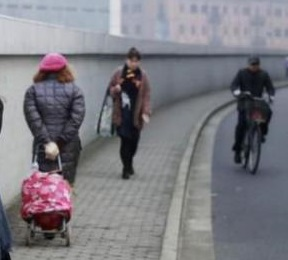person: (20, 49, 91, 173), (95, 46, 153, 181), (229, 54, 278, 174)
